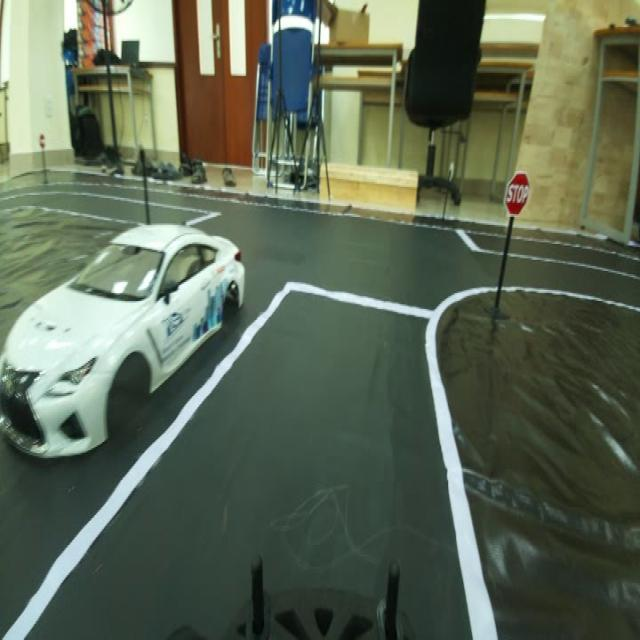car: (0, 222, 253, 466)
stop: (501, 168, 534, 220)
